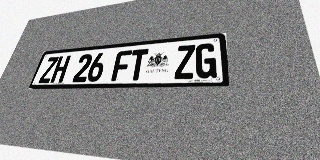2: (72, 53, 93, 82)
6: (86, 52, 107, 82)
F: (111, 50, 132, 81)
G: (195, 43, 217, 79)
H: (50, 55, 71, 83)
T: (127, 49, 149, 81)
Z: (174, 44, 195, 79), (38, 56, 59, 83)
